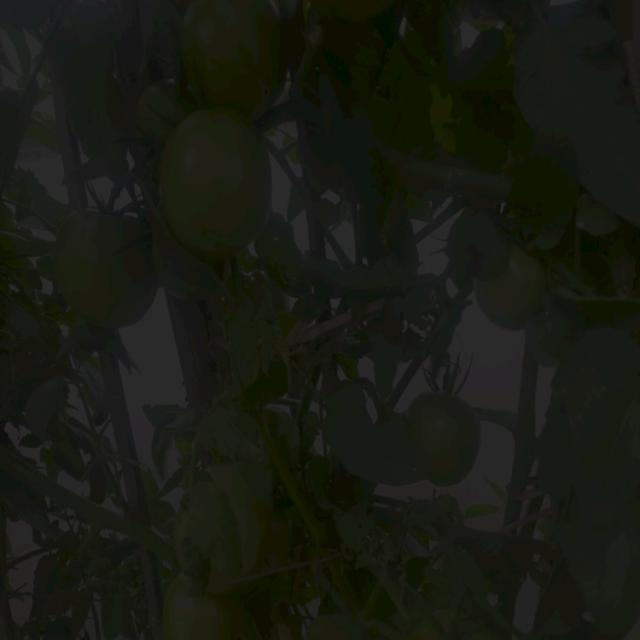tomato: (170, 117, 278, 265), (52, 202, 169, 338), (195, 1, 295, 112), (415, 391, 483, 482), (170, 581, 272, 640), (478, 260, 548, 340), (139, 81, 184, 139)
